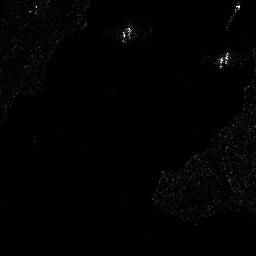ship: (225, 2, 241, 28)
